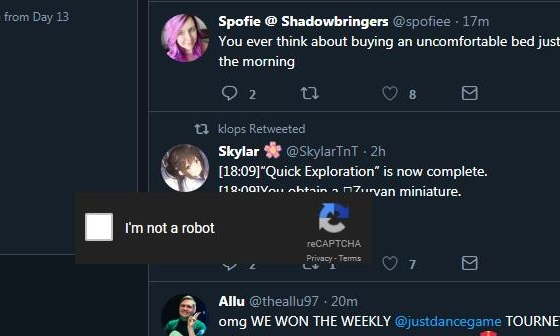captcha: (84, 212, 216, 241)
